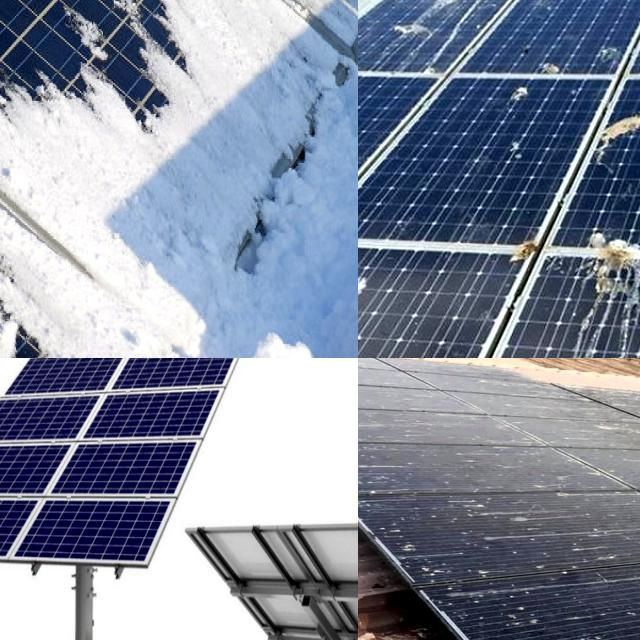bird: (447, 485, 554, 574), (577, 217, 640, 321), (488, 77, 554, 166), (358, 268, 416, 358), (375, 0, 459, 58), (566, 112, 640, 163), (504, 238, 554, 270), (620, 519, 640, 569)
crack: (0, 358, 255, 593)
dust: (358, 402, 557, 464)
panel: (0, 1, 161, 192), (28, 237, 206, 358), (27, 38, 170, 161), (0, 170, 76, 358), (0, 101, 86, 266), (81, 0, 219, 56), (0, 262, 58, 358), (148, 0, 255, 46), (0, 62, 67, 129), (120, 0, 219, 36), (234, 0, 314, 42), (299, 0, 358, 56), (0, 0, 45, 45)
